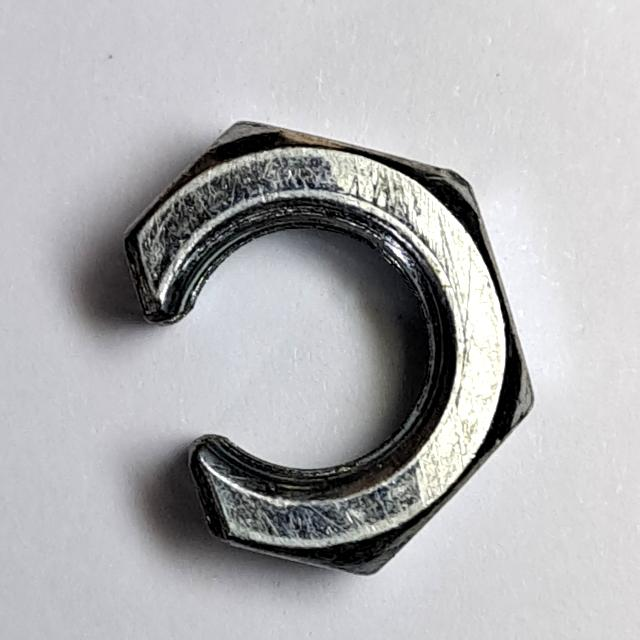Fracture: (111, 107, 559, 594)
